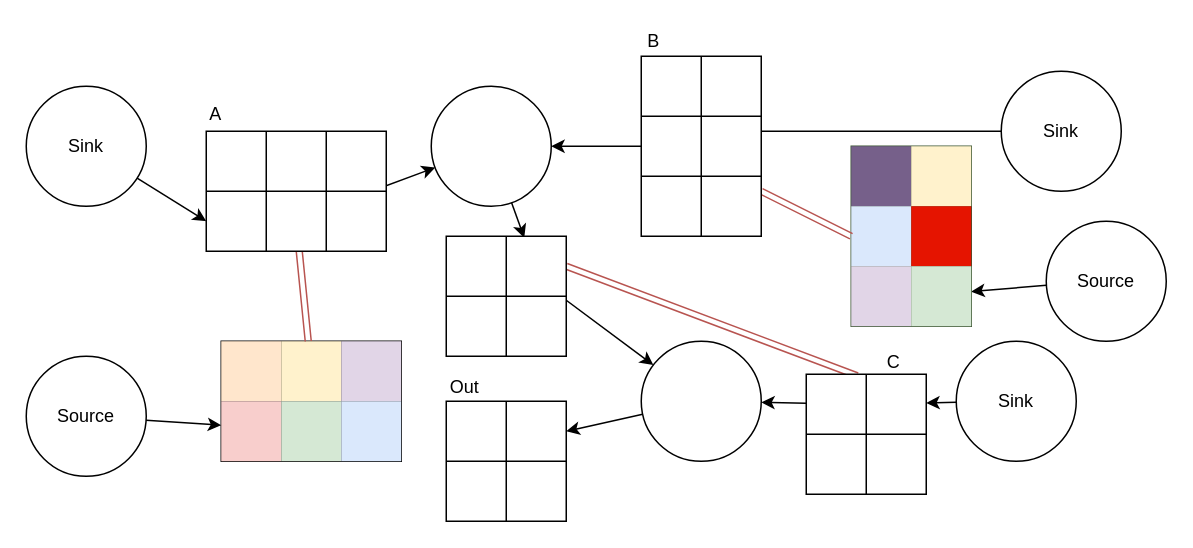
Some shapes in this 1193 by 548 pixel diagram are drawn without their labels. The centre of each missing label's shape, as x and y in pixels:
Barrier: point (490, 145)
SumLike (add): point (700, 400)
